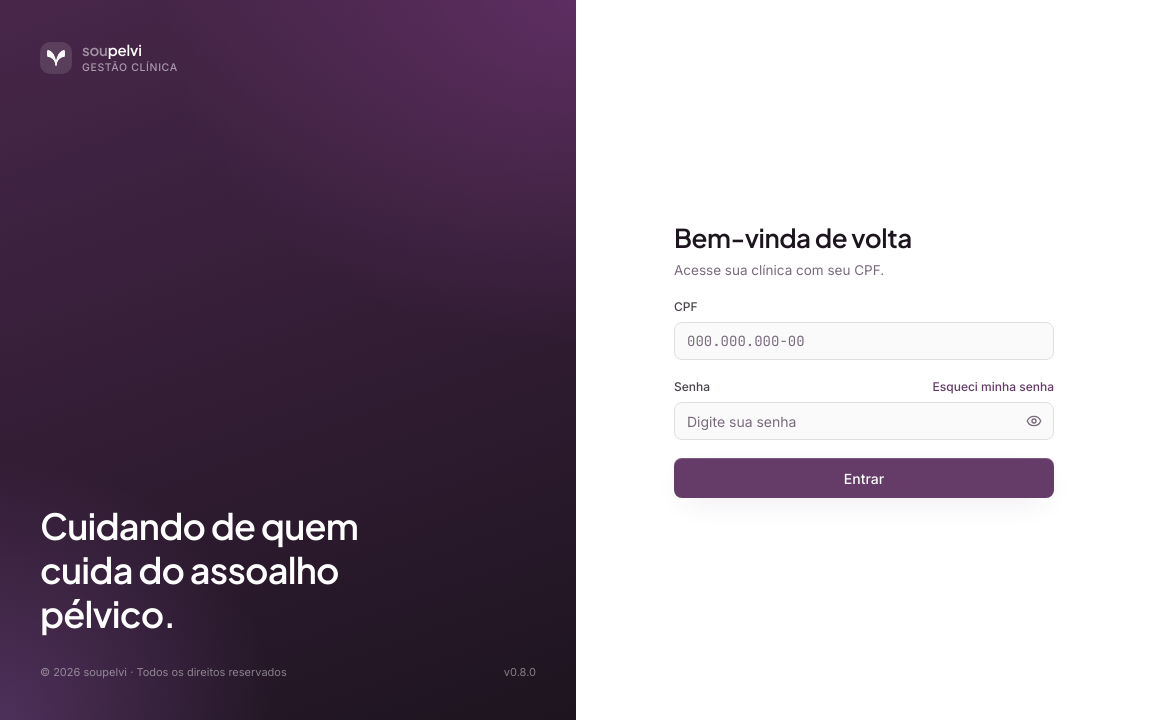
Scenario: Login page › shows the error message returned by login() on failure
Type "00000000000" into the field labelled "CPF" at (864, 341), box [674,322,1054,360]
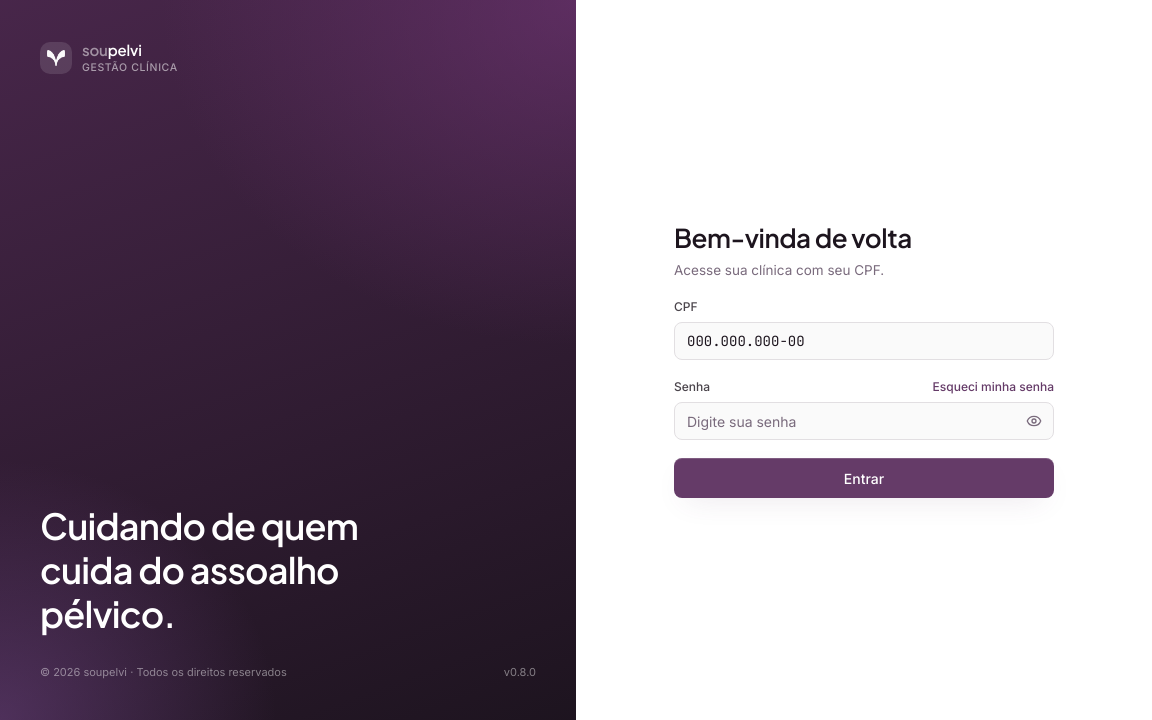
Type "wrong" into the password field labelled "Senha" at (864, 421), box [674,402,1054,440]
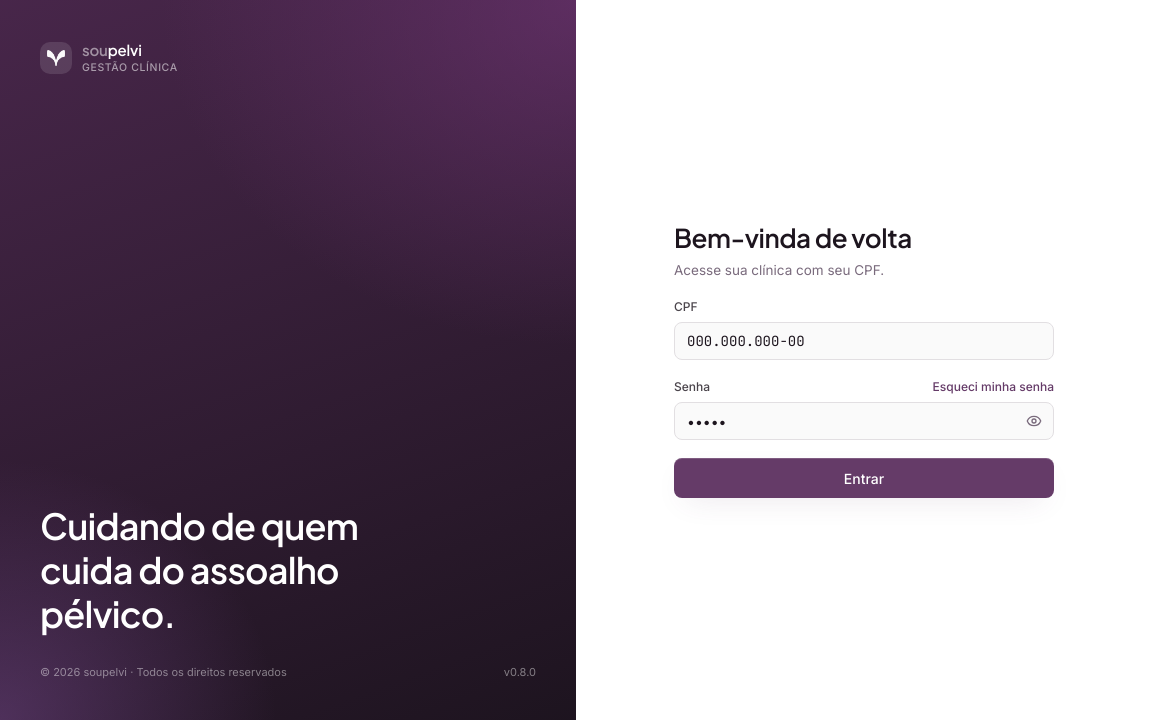
Click the button "Entrar" at (864, 478), box [674,458,1054,498]
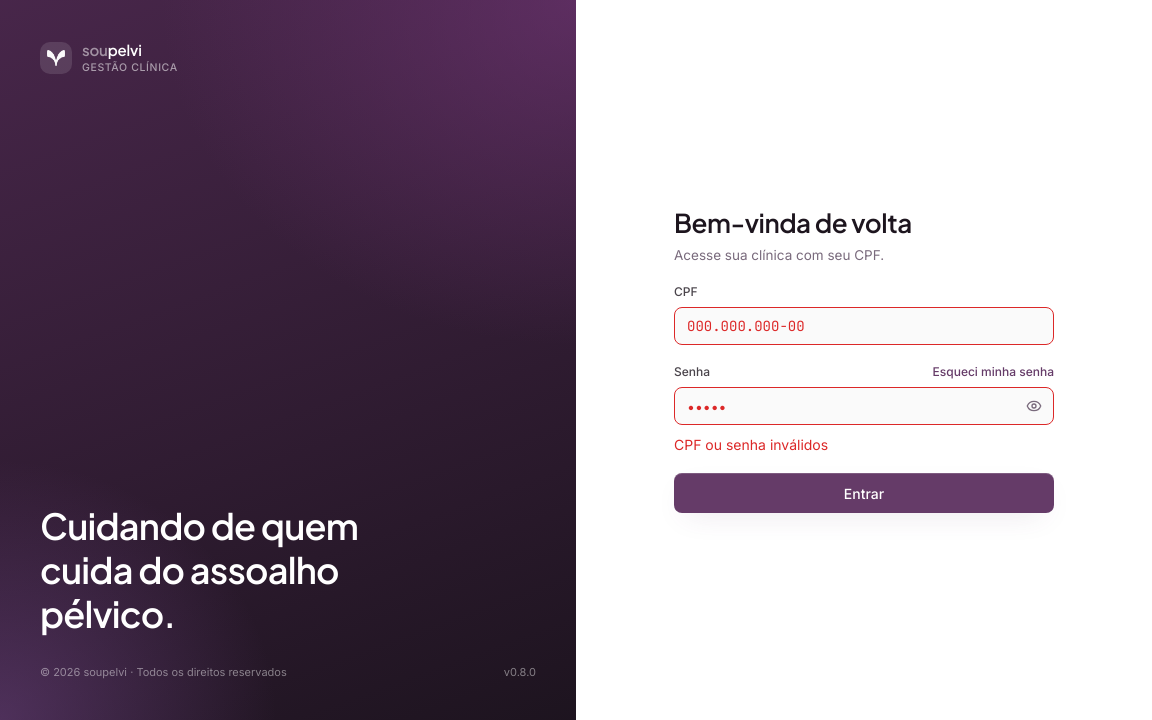
Result: the text "CPF ou senha inválidos" is shown at [674,436,828,453]
